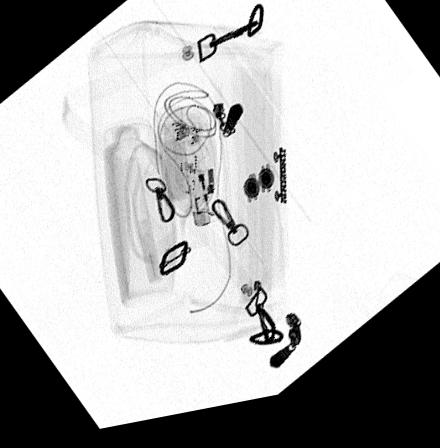Lighter: (175, 144, 221, 233)
